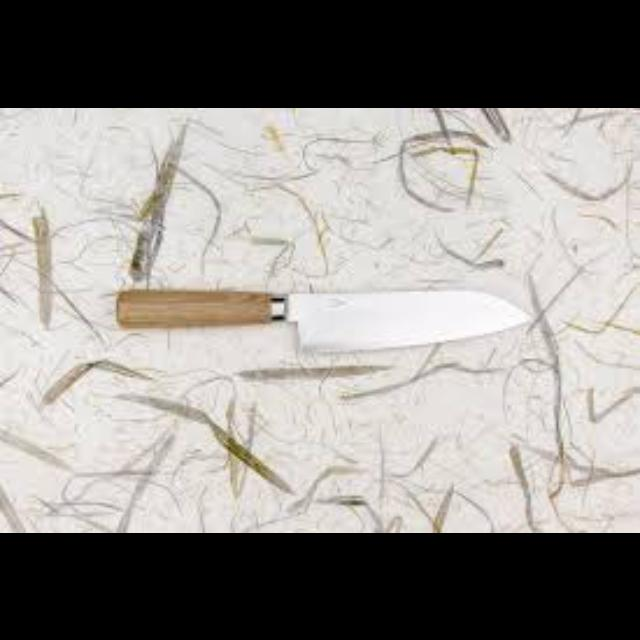Knife: (114, 286, 532, 352)
